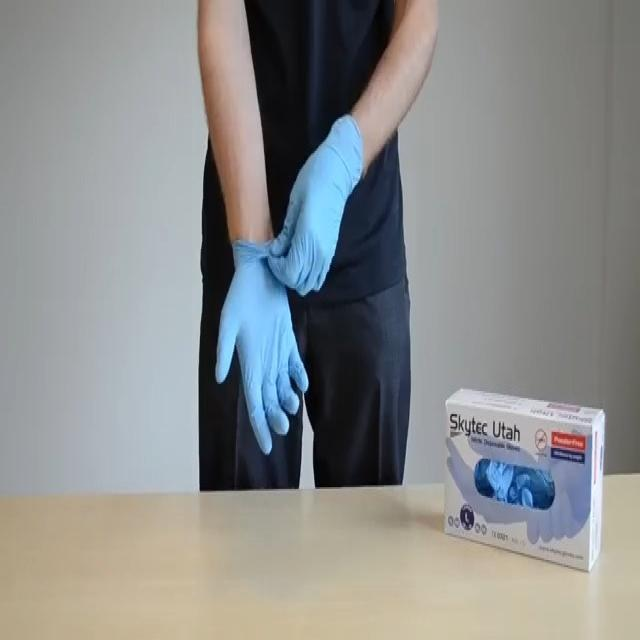Gloves: (212, 239, 311, 449), (268, 97, 363, 307)
